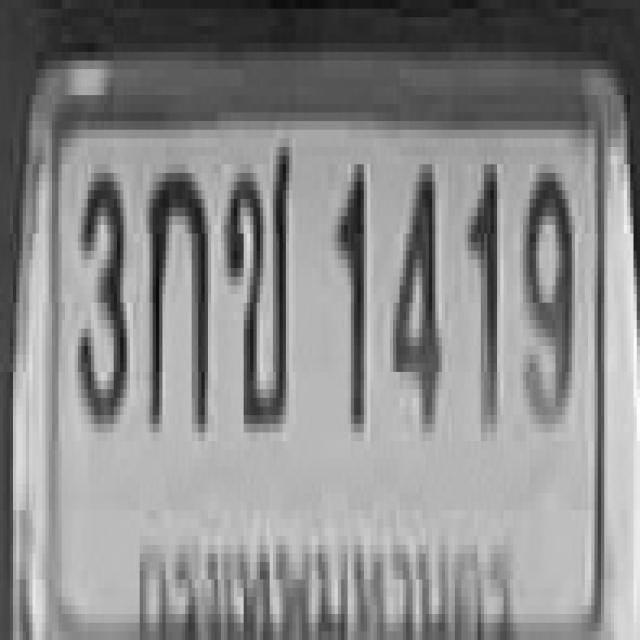1: (334, 156, 364, 424), (464, 156, 494, 424)
10GorGai: (146, 164, 205, 424)
19ChorChang: (222, 138, 288, 424)
3: (75, 164, 126, 415)
4: (390, 156, 438, 424)
9: (520, 164, 572, 415)
Bangkok: (126, 510, 520, 640)
